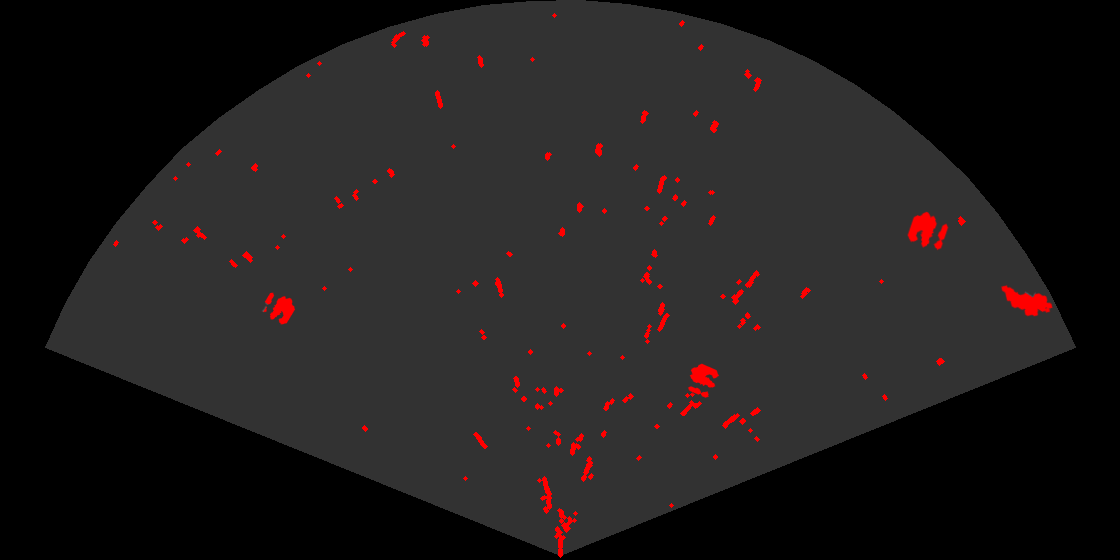AUV: (999, 283, 1054, 318)
ball: (906, 210, 950, 252), (261, 291, 297, 326), (687, 362, 721, 399)
